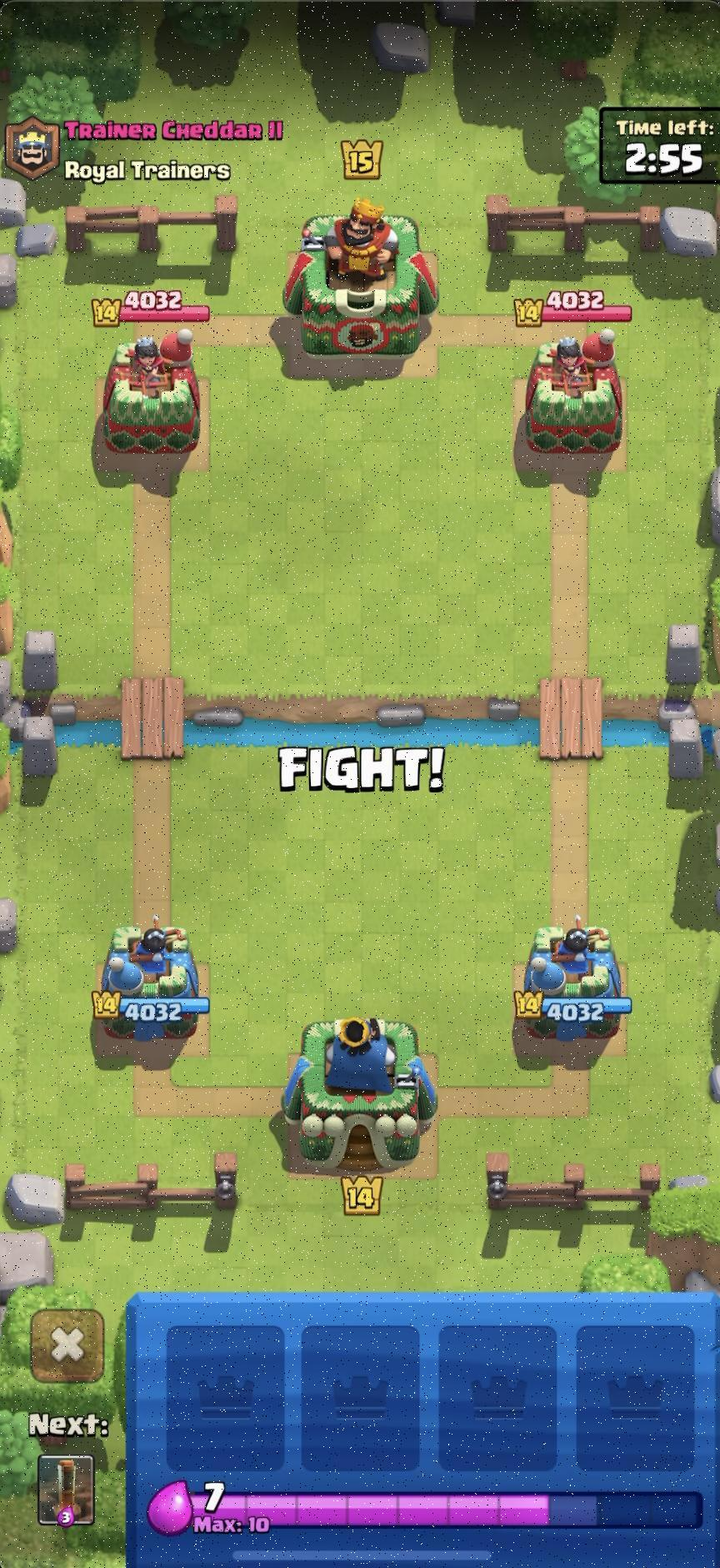card_earthquake: (31, 1451, 100, 1537)
